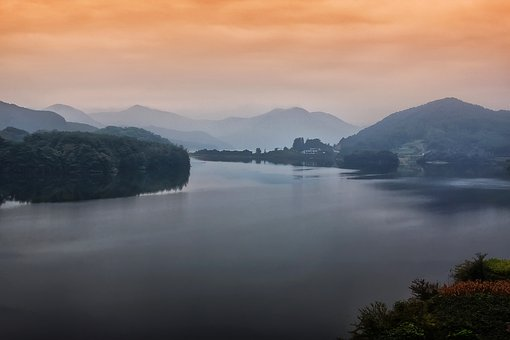lake: (16, 168, 510, 317)
mountain: (8, 103, 510, 166)
sky: (4, 3, 497, 111)
